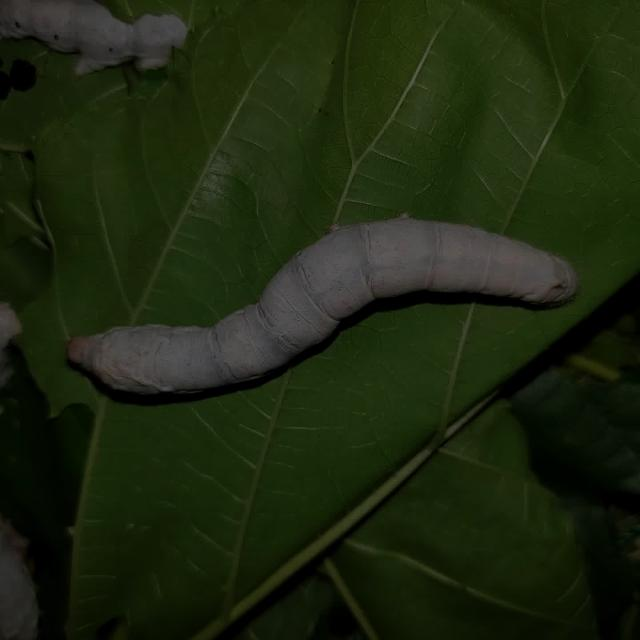Healthy: (62, 201, 590, 420)
